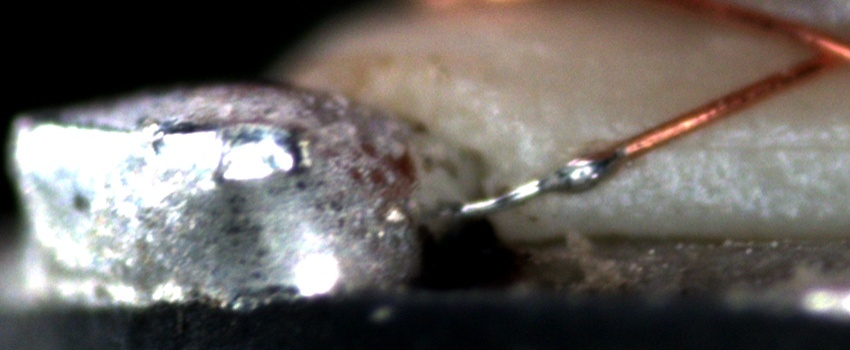DL: (682, 114, 850, 179)
TB: (544, 142, 628, 193)
TS: (460, 147, 626, 215)
TTCW: (442, 127, 664, 221)
